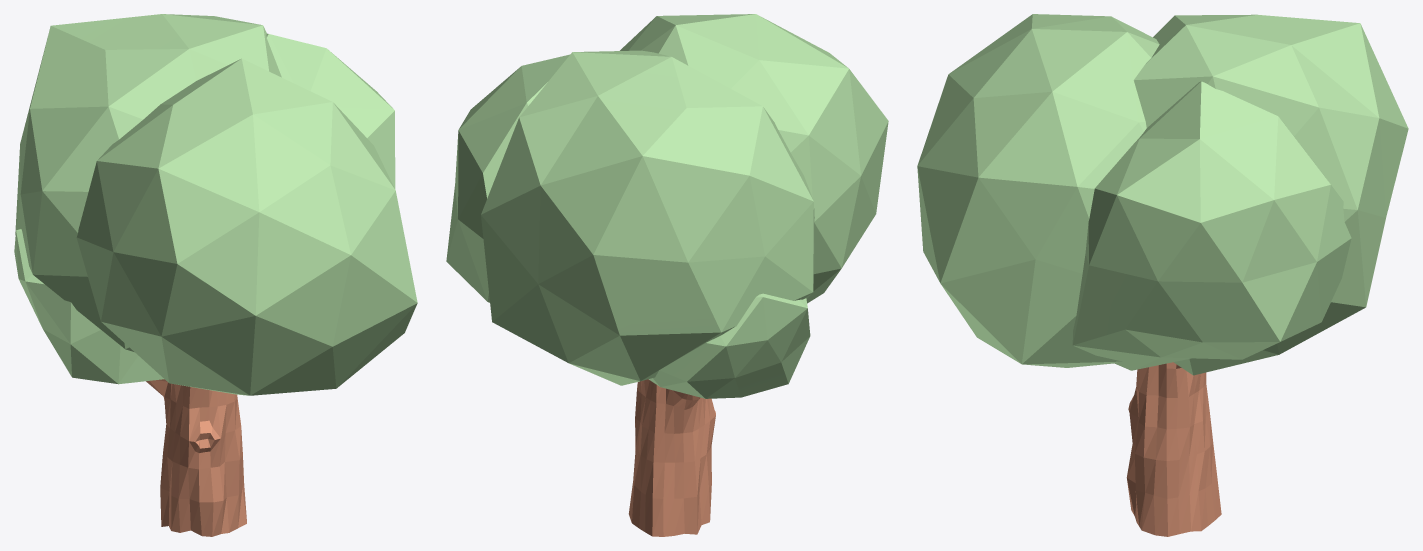
Rendered from Tree1.fbx.
The picture shows the model from 3 angles, left to right: view 1: azimuth 30°, elevation 25°; view 2: azimuth 150°, elevation 25°; view 3: azimuth 270°, elevation 25°; orthographic projection. The views are drawn at different scales.
Visible parts, largest first — view 1: Icosphere, Cylinder; view 2: Icosphere, Cylinder; view 3: Icosphere, Cylinder.
Boxes of the visible parts, x1,y1,x2,y2 form: Icosphere: [14, 14, 417, 395]; Cylinder: [146, 379, 246, 536]; Icosphere: [446, 14, 888, 398]; Cylinder: [628, 379, 715, 536]; Icosphere: [917, 14, 1408, 375]; Cylinder: [1126, 362, 1221, 536].
Bounding box in the file's own units: 1650 × 2182 × 1957.
